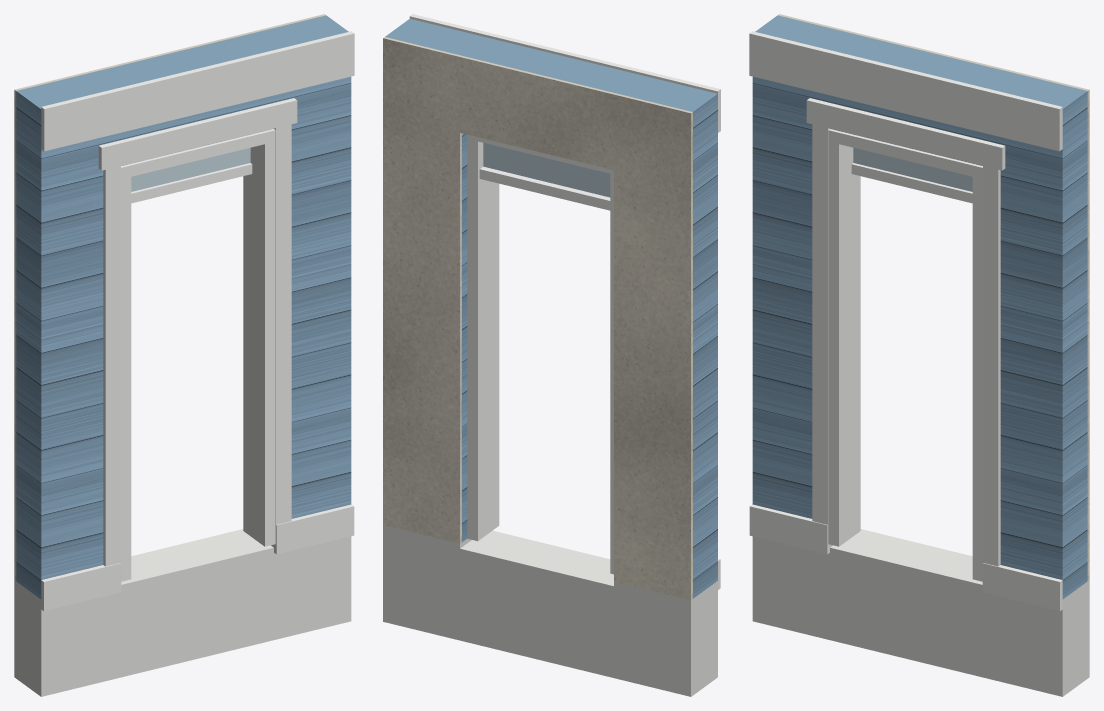
File: wall_e_door.glb
The picture shows the model from 3 angles, left to right: view 1: azimuth 30°, elevation 25°; view 2: azimuth 150°, elevation 25°; view 3: azimuth 330°, elevation 25°; orthographic projection.
Visible parts, largest first — view 1: wall_e_door_siding_e, wall_e_door_trim, wall_e_door_lattice, wall_e_door_frame, wall_e_door_plaster, wall_e_door_glass; view 2: wall_e_door_plaster, wall_e_door_lattice, wall_e_door_siding_e, wall_e_door_frame, wall_e_door_glass, wall_e_door_trim; view 3: wall_e_door_siding_e, wall_e_door_trim, wall_e_door_lattice, wall_e_door_frame, wall_e_door_plaster, wall_e_door_glass.
Boxes of the visible parts, <box> form: wall_e_door_siding_e: <box>16,15,351,599</box>; wall_e_door_trim: <box>41,31,354,611</box>; wall_e_door_lattice: <box>14,529,351,696</box>; wall_e_door_frame: <box>121,129,275,581</box>; wall_e_door_plaster: <box>14,14,325,580</box>; wall_e_door_glass: <box>131,147,250,191</box>; wall_e_door_plaster: <box>383,37,692,599</box>; wall_e_door_lattice: <box>383,525,717,696</box>; wall_e_door_siding_e: <box>385,19,717,598</box>; wall_e_door_frame: <box>467,134,613,574</box>; wall_e_door_glass: <box>483,143,610,197</box>; wall_e_door_trim: <box>409,14,720,589</box>; wall_e_door_siding_e: <box>752,15,1087,599</box>; wall_e_door_trim: <box>749,31,1062,611</box>; wall_e_door_lattice: <box>752,529,1089,696</box>; wall_e_door_frame: <box>828,129,982,581</box>; wall_e_door_plaster: <box>778,14,1089,580</box>; wall_e_door_glass: <box>853,147,972,191</box>.
Bounding box in the file's own units: 2 × 3.63 × 0.335.
Materials: 6 (2 with a texture image).
